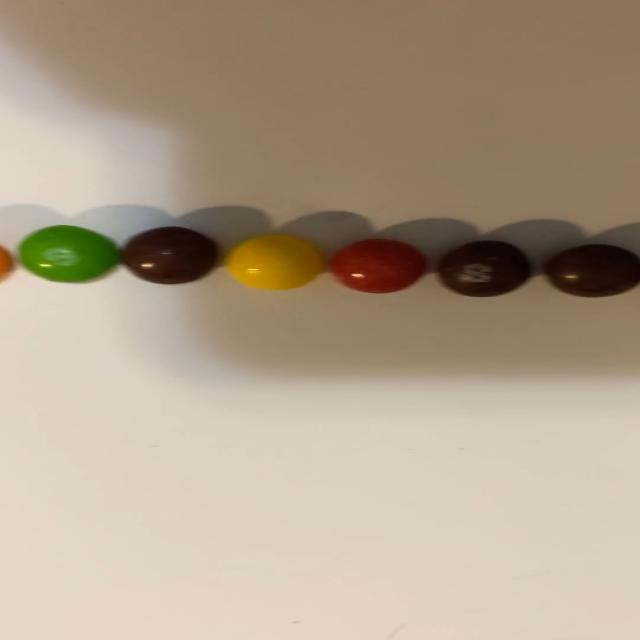smartie: (17, 225, 117, 282), (120, 226, 216, 284), (226, 235, 321, 290), (329, 239, 425, 293), (439, 241, 531, 297), (544, 244, 640, 297)
